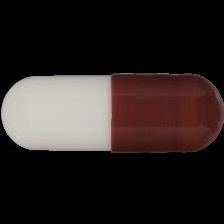63187-135: (0, 0, 224, 224)
